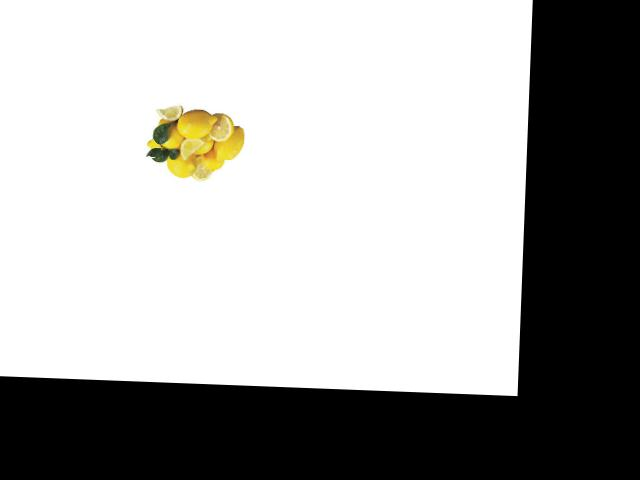lemon: (155, 118, 189, 150)
